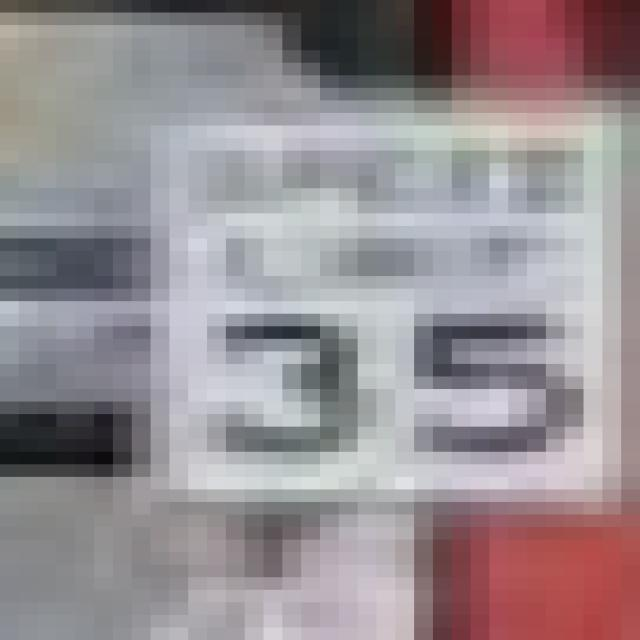speedLimit35: (145, 121, 604, 488)
